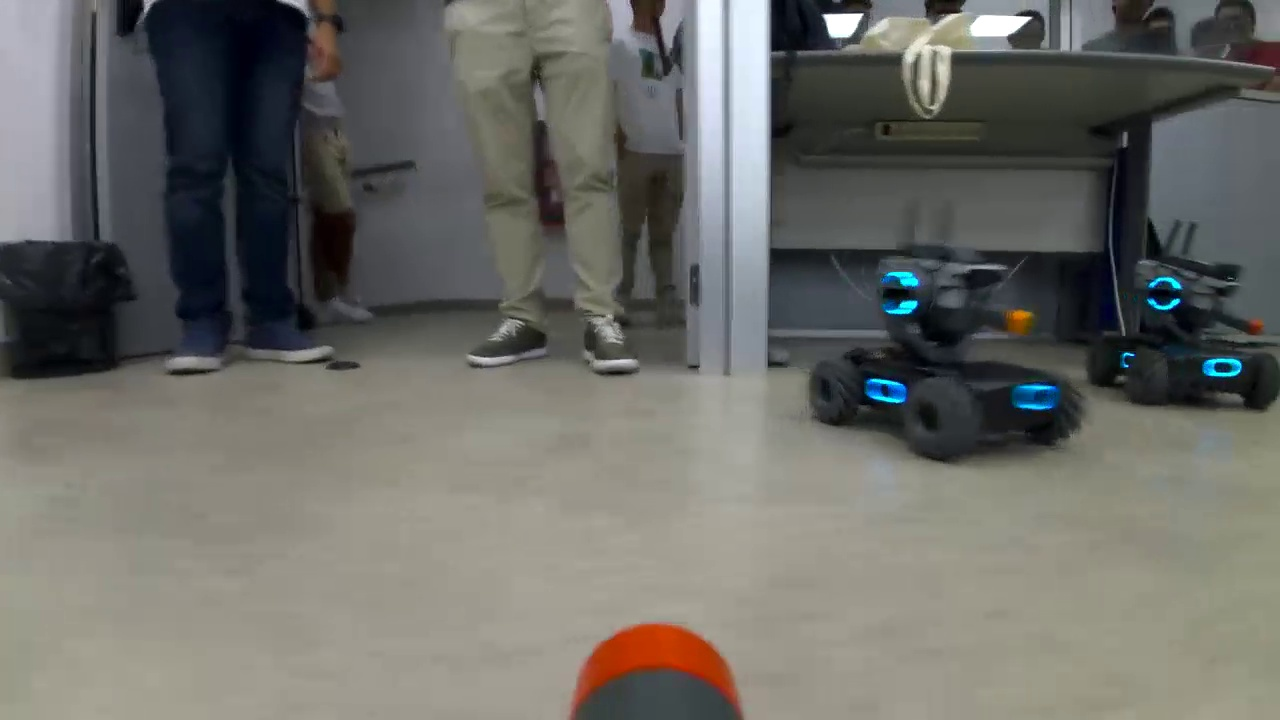robot: (801, 237, 1091, 469), (1090, 243, 1280, 415)
